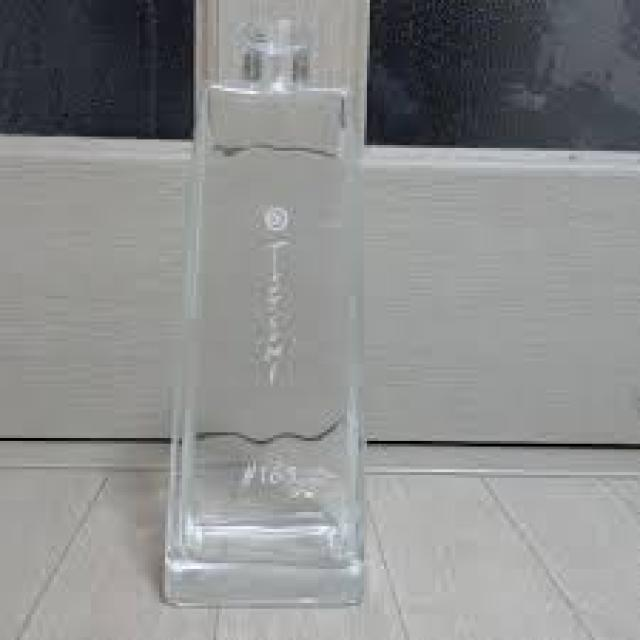glass: (159, 23, 367, 606)
